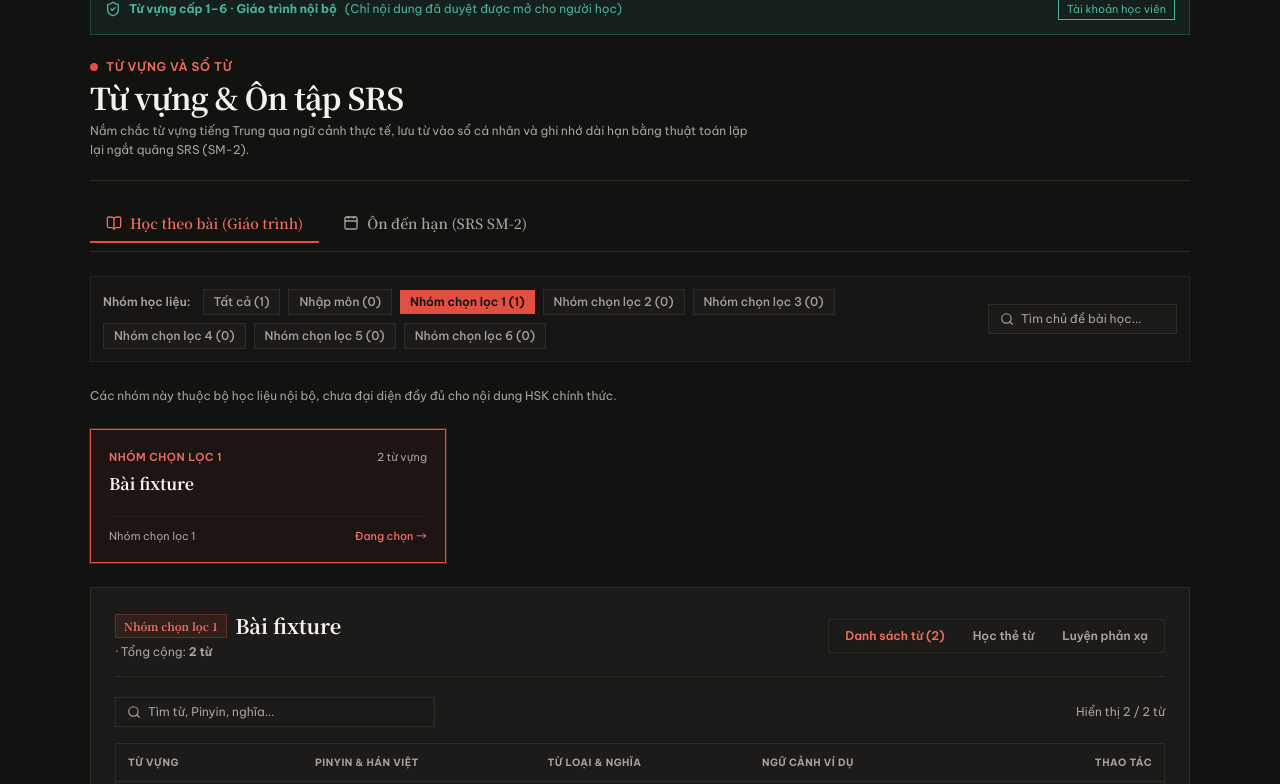
Test: repeated glossary meanings cannot become a single-answer multiple-choice question
Click the button "Luyện phản xạ" at {"x": 1105, "y": 636}, box [1050, 624, 1160, 648]
(page scrolled)
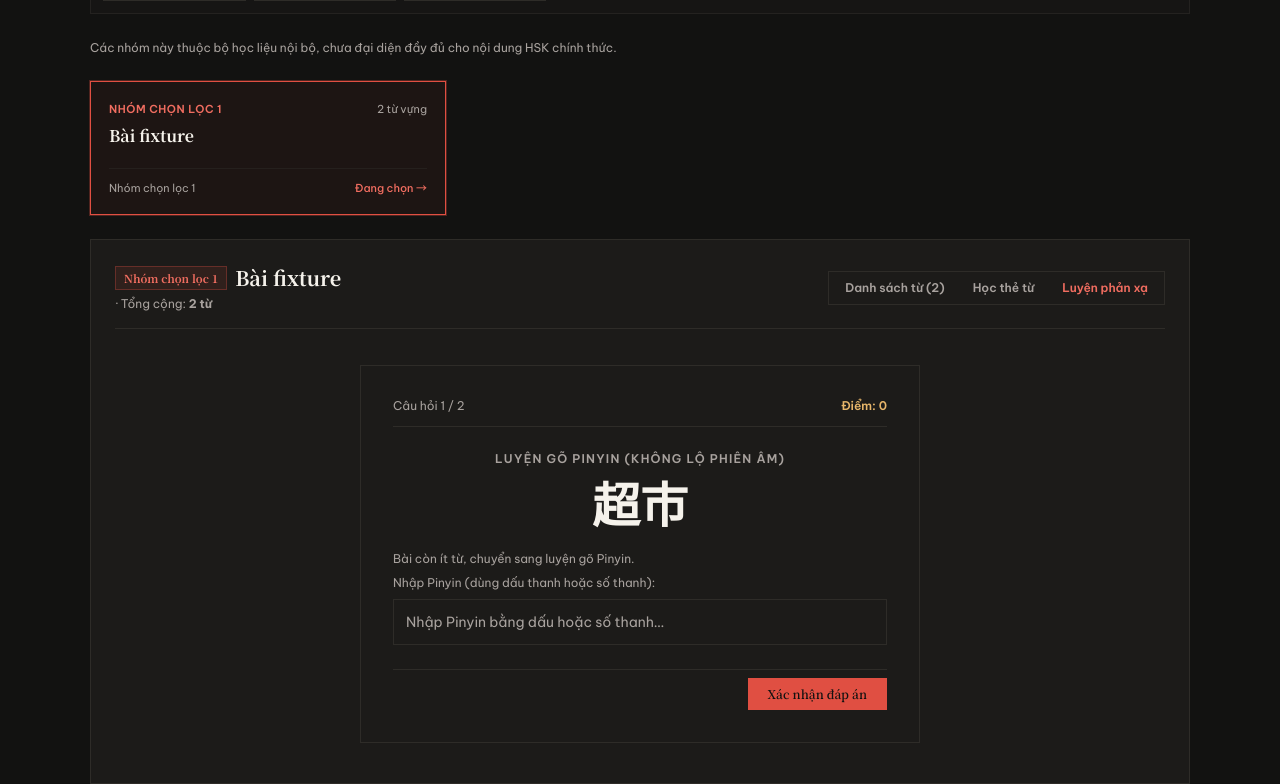
expect the field labelled "Nhập Pinyin (dùng dấu thanh hoặc số thanh):" is shown: met, box [393, 599, 887, 645]
